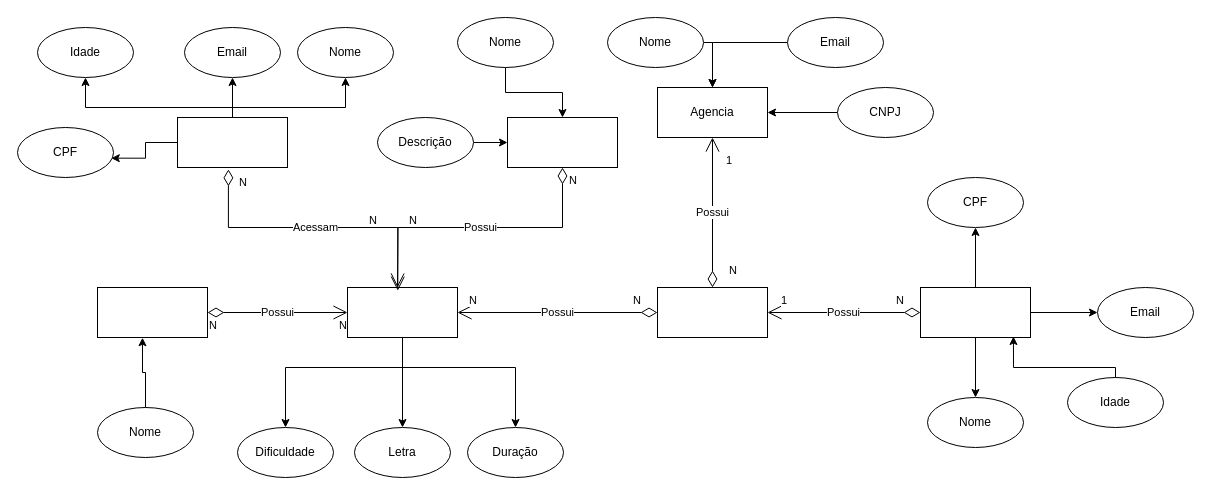
This 1211x495 diagram has some shape labels left out. The shapes that lost their labels are listed below. From the top down, each one's box as (x1, y1, x2, y2) in pixels, then its label:
(176, 116, 288, 168): Usuário
(506, 116, 618, 168): Instrumento
(96, 286, 208, 338): Estilo
(346, 286, 458, 338): Musica
(656, 286, 768, 338): Banda
(920, 286, 1030, 338): Cantor
